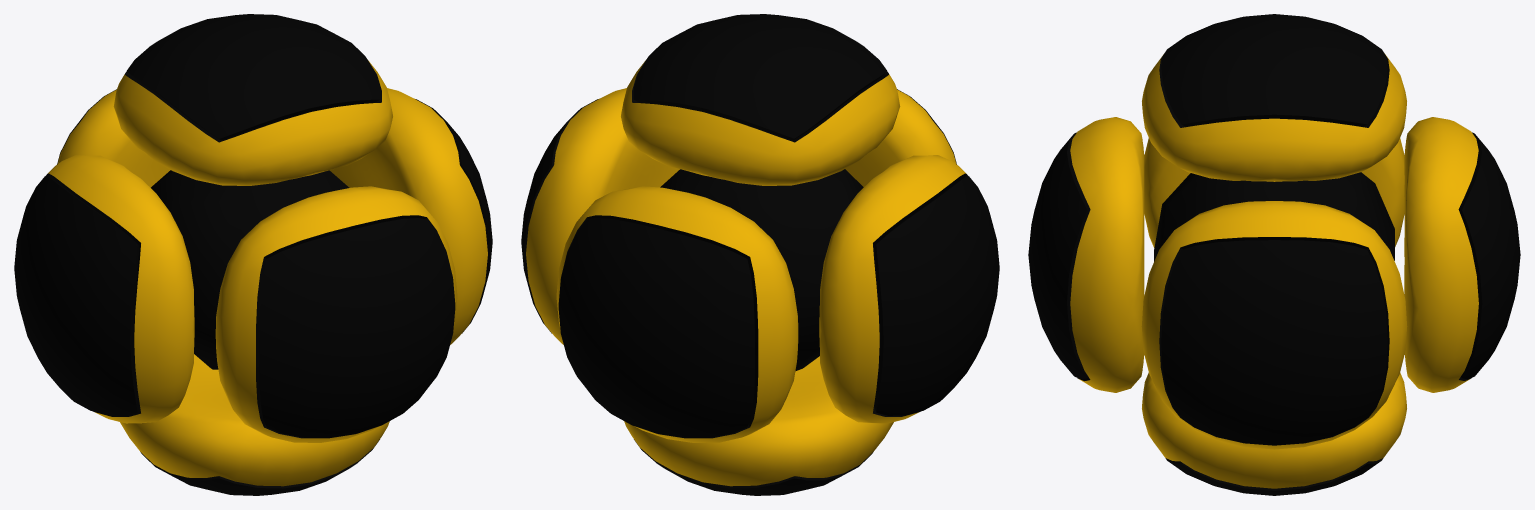
File: Drone_001.fbx
The picture shows the model from 3 angles, left to right: view 1: azimuth 30°, elevation 25°; view 2: azimuth 150°, elevation 25°; view 3: azimuth 270°, elevation 25°; orthographic projection.
Visible parts, largest first — view 1: pPyramid1, pPyramid5, pPyramid2, pPyramid3, pPyramid6, pSolid1, pPyramid4; view 2: pPyramid4, pPyramid5, pPyramid2, pPyramid3, pPyramid6, pSolid1, pPyramid1; view 3: pPyramid6, pPyramid2, pPyramid1, pPyramid4, pPyramid3, pSolid1, pPyramid5.
Boxes of the visible parts, left/top/right/bottom form: pPyramid1: left=215, top=186, right=457, bottom=442; pPyramid5: left=14, top=155, right=194, bottom=423; pPyramid2: left=113, top=14, right=392, bottom=185; pPyramid3: left=120, top=354, right=389, bottom=495; pPyramid6: left=330, top=88, right=492, bottom=344; pSolid1: left=151, top=170, right=349, bottom=369; pPyramid4: left=57, top=89, right=170, bottom=187; pPyramid4: left=556, top=186, right=798, bottom=442; pPyramid5: left=819, top=155, right=999, bottom=423; pPyramid2: left=621, top=14, right=900, bottom=185; pPyramid3: left=624, top=356, right=893, bottom=495; pPyramid6: left=521, top=88, right=679, bottom=344; pSolid1: left=660, top=169, right=863, bottom=371; pPyramid1: left=845, top=89, right=956, bottom=186; pPyramid6: left=1141, top=201, right=1407, bottom=449; pPyramid2: left=1142, top=14, right=1406, bottom=181; pPyramid1: left=1028, top=117, right=1144, bottom=392; pPyramid4: left=1404, top=117, right=1520, bottom=392; pPyramid3: left=1142, top=372, right=1406, bottom=495; pSolid1: left=1154, top=172, right=1394, bottom=261; pPyramid5: left=1144, top=138, right=1404, bottom=247.
Bounding box in the file's own units: 0.993 × 0.993 × 0.993.
